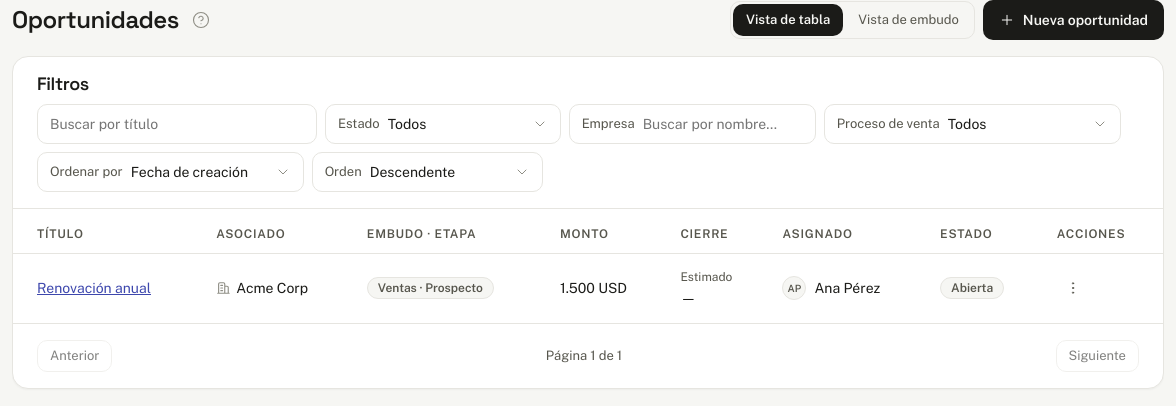
Scenario: OpportunityListPage › el toggle pasa de la vista de tabla a la de embudo y vuelve, sin romper la tabla
Expected: the link "Renovación anual" is shown, top-left (37, 280), bottom-right (151, 296)
Expected: the dropdown labelled "Estado" is shown, top-left (388, 116), bottom-right (548, 132)
Click the button "Vista de embudo": (909, 20) top-left (845, 4), bottom-right (972, 36)
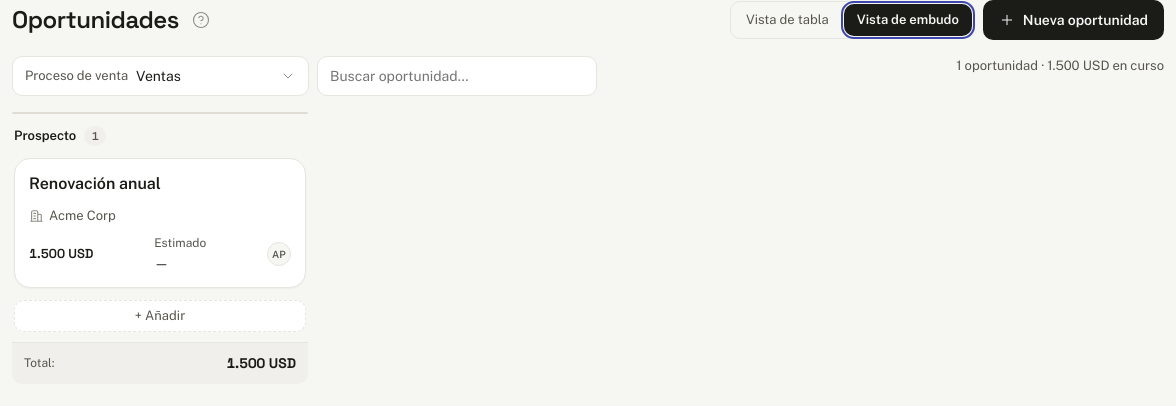
Expected: the label labelled "Estado" is gone
Expected: the table is gone
Expected: the search field with placeholder "Buscar oportunidad…" is shown, top-left (330, 68), bottom-right (584, 84)
Click the button "Vista de tabla": (787, 20) top-left (733, 4), bottom-right (842, 36)
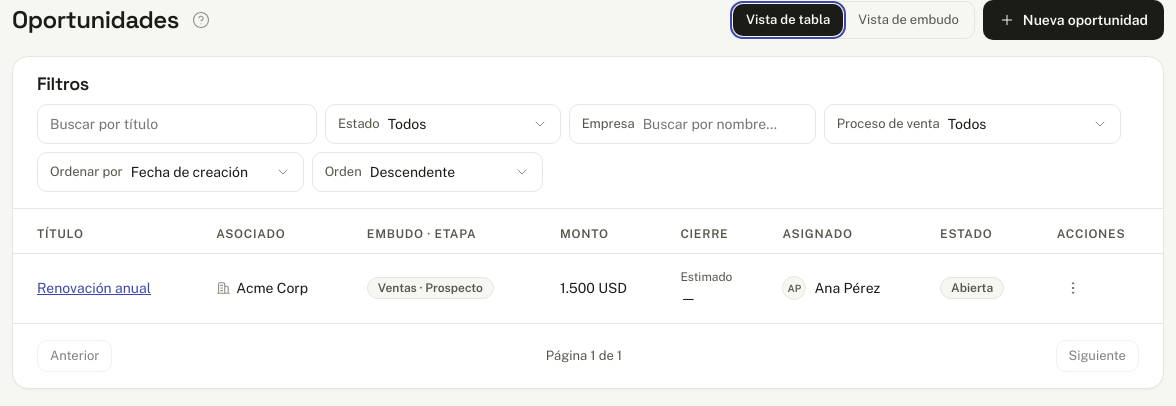
Expected: the link "Renovación anual" is shown, top-left (37, 280), bottom-right (151, 296)
Expected: the dropdown labelled "Estado" is shown, top-left (388, 116), bottom-right (548, 132)
Expected: the table is shown, top-left (13, 208), bottom-right (1163, 322)
